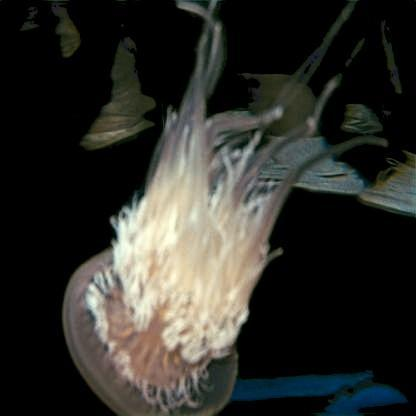GoldThorn: (59, 19, 294, 411)
